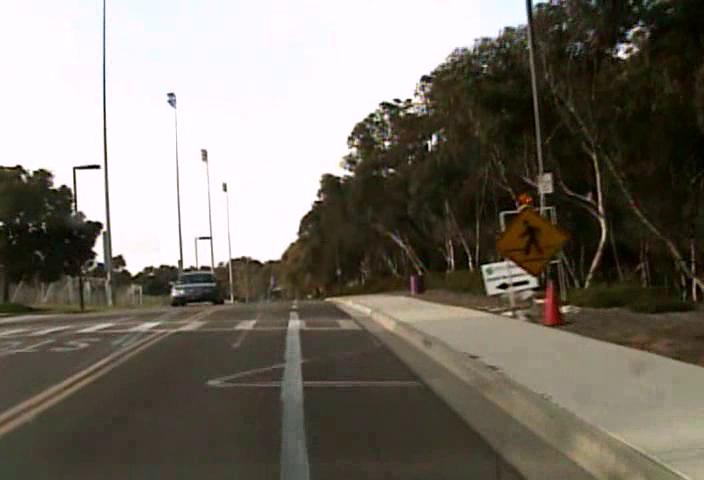pedestrianCrossing: (494, 205, 568, 278)
